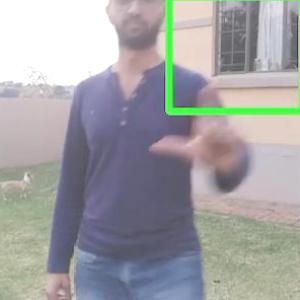land_hand: (144, 77, 250, 191)
